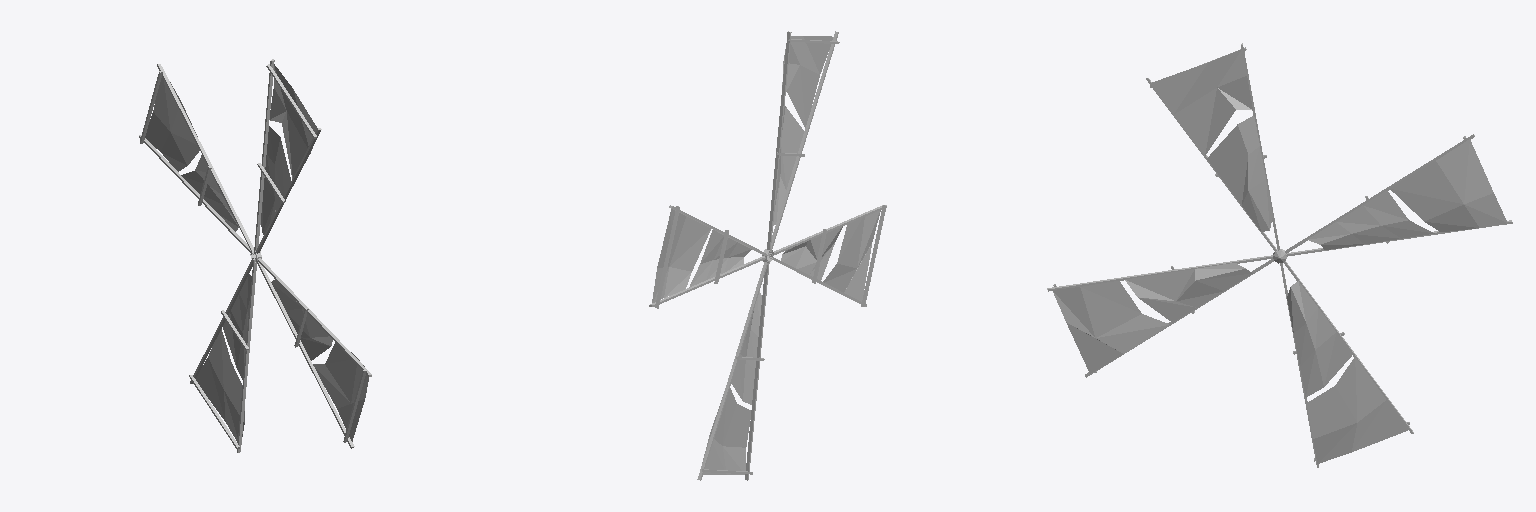
File: windmill_blades.obj
3 renders of one model, left to right at view 1: azimuth 30°, elevation 25°; view 2: azimuth 150°, elevation 25°; view 3: azimuth 270°, elevation 25°, orthographic.
Visible parts, largest first — view 1: blades_windmill_001_lopatky_COL_jpg; view 2: blades_windmill_001_lopatky_COL_jpg; view 3: blades_windmill_001_lopatky_COL_jpg.
Boxes of the visible parts, box(x1,y1,x2,y2) form: blades_windmill_001_lopatky_COL_jpg: box(139, 59, 371, 452); blades_windmill_001_lopatky_COL_jpg: box(649, 31, 886, 480); blades_windmill_001_lopatky_COL_jpg: box(1047, 43, 1512, 467).
Bounding box in the file's own units: 2.93 × 88.6 × 88.6.